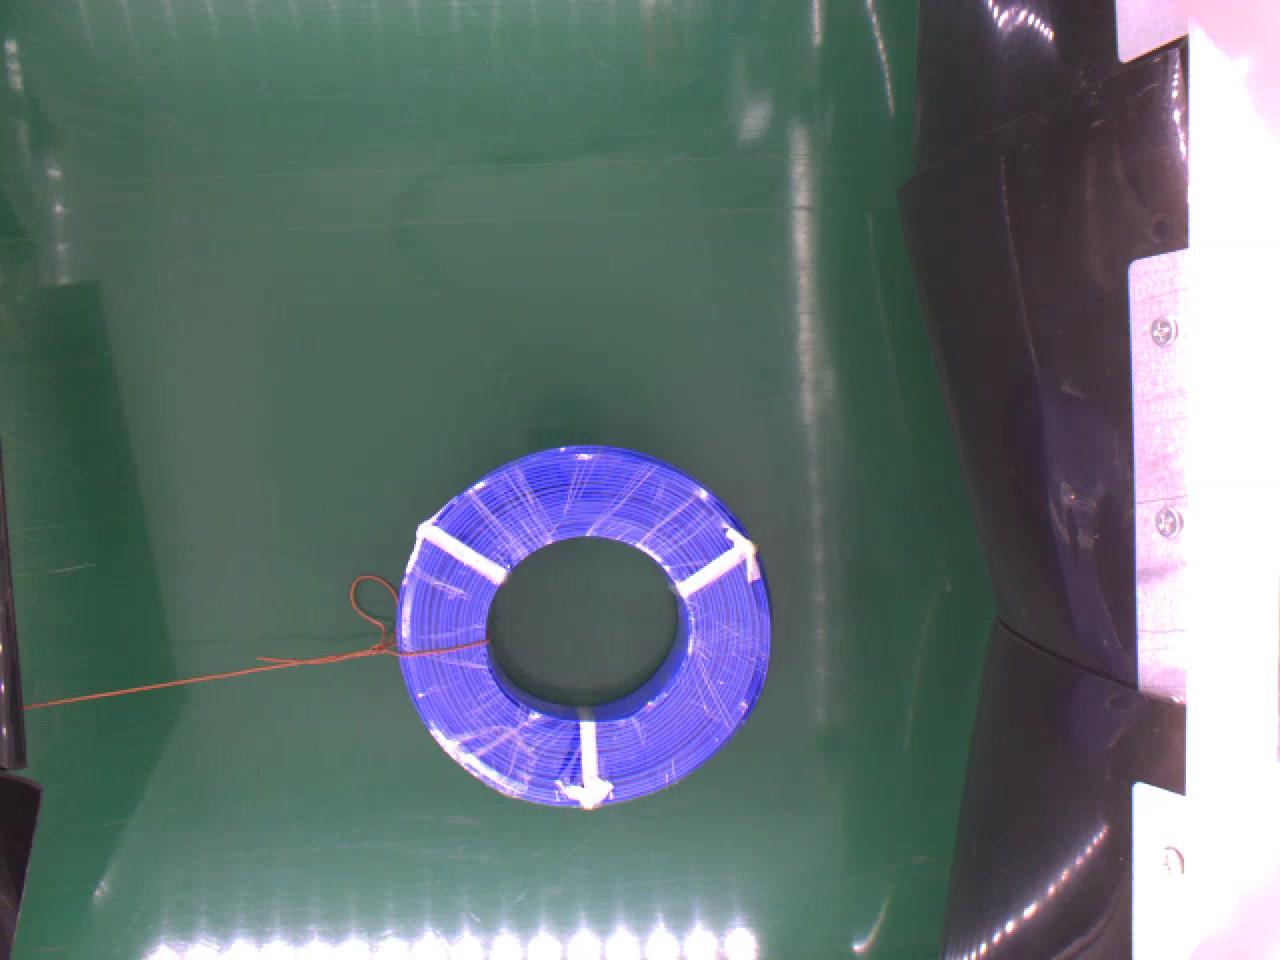blue: (386, 443, 780, 815)
